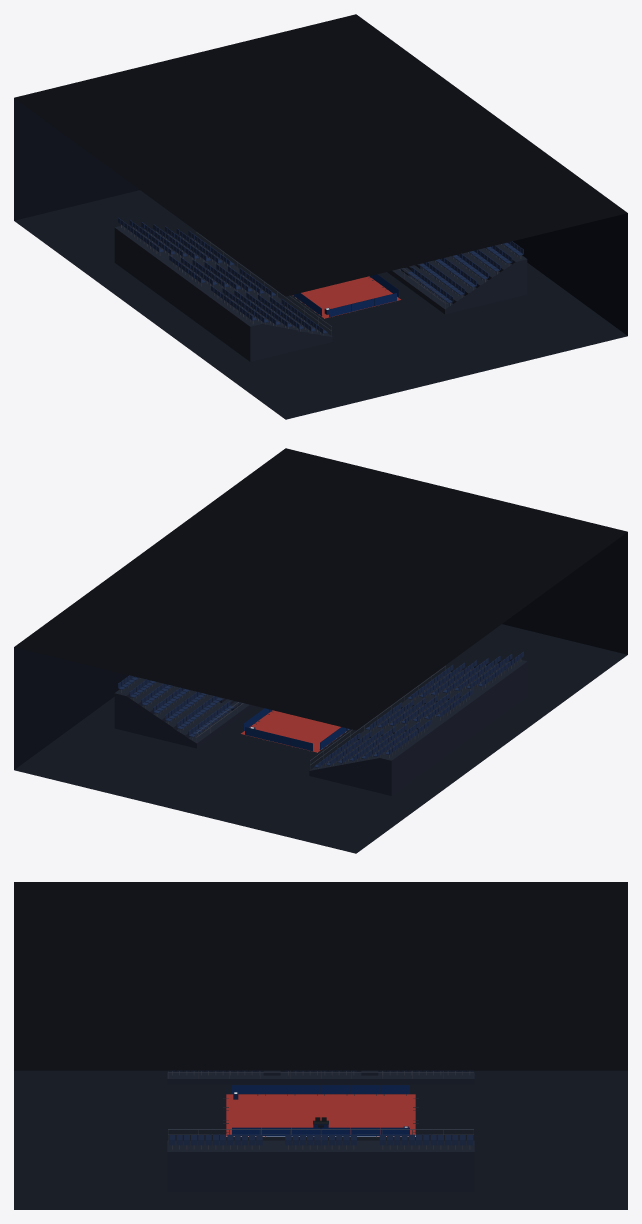
The model's file is arena.glb.
3 renders of one model, top to bottom at view 1: azimuth 30°, elevation 25°; view 2: azimuth 150°, elevation 25°; view 3: azimuth 270°, elevation 25°, orthographic. The views are drawn at different scales.
Visible parts, largest first — view 1: hall, floor, stands, barriers; view 2: hall, floor, stands, barriers; view 3: hall, floor, stands, barriers.
Part boxes in pixels (left/top/right/bottom): hall: left=14, top=14, right=627, bottom=335; floor: left=14, top=190, right=627, bottom=419; stands: left=114, top=217, right=527, bottom=361; barriers: left=292, top=274, right=399, bottom=317; hall: left=14, top=448, right=627, bottom=769; floor: left=14, top=624, right=627, bottom=853; stands: left=114, top=651, right=527, bottom=795; barriers: left=242, top=708, right=349, bottom=751; hall: left=14, top=882, right=627, bottom=1070; floor: left=14, top=1070, right=627, bottom=1209; stands: left=167, top=1070, right=474, bottom=1191; barriers: left=223, top=1085, right=418, bottom=1137.
Bounding box in the file's own units: 32 × 11 × 44.
